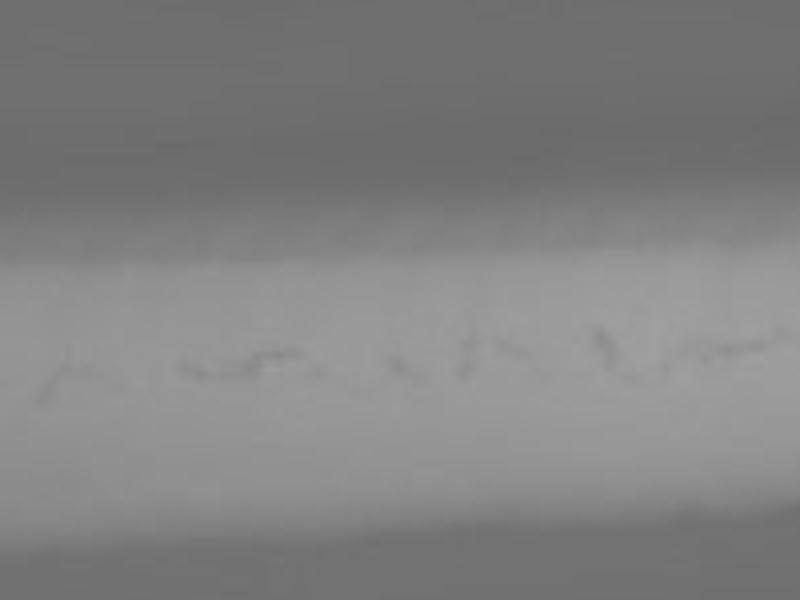defect: (587, 323, 621, 367), (450, 355, 477, 382), (234, 358, 262, 384), (388, 352, 414, 377), (454, 328, 484, 348)
